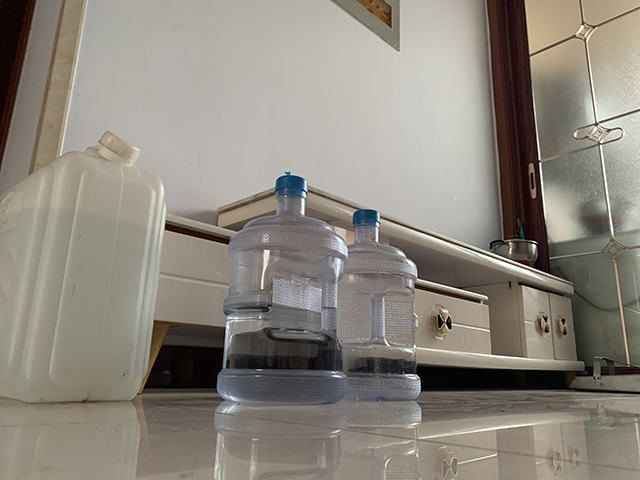cabinet: (135, 164, 585, 395)
